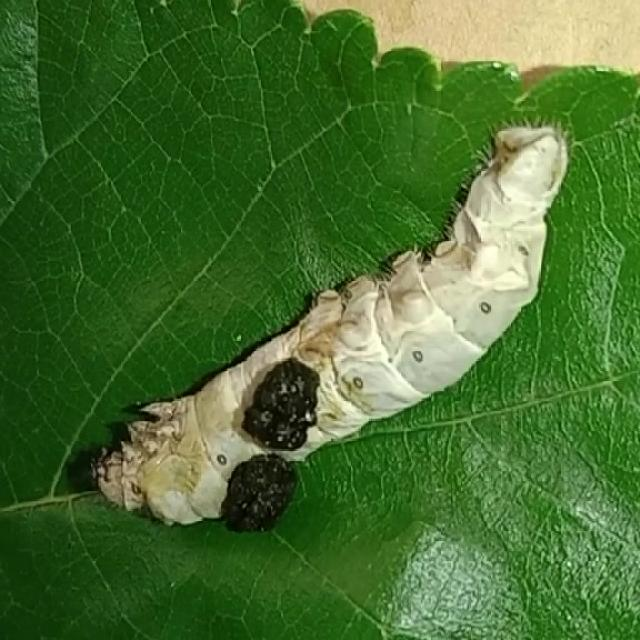Grasserie: (42, 90, 594, 604)
